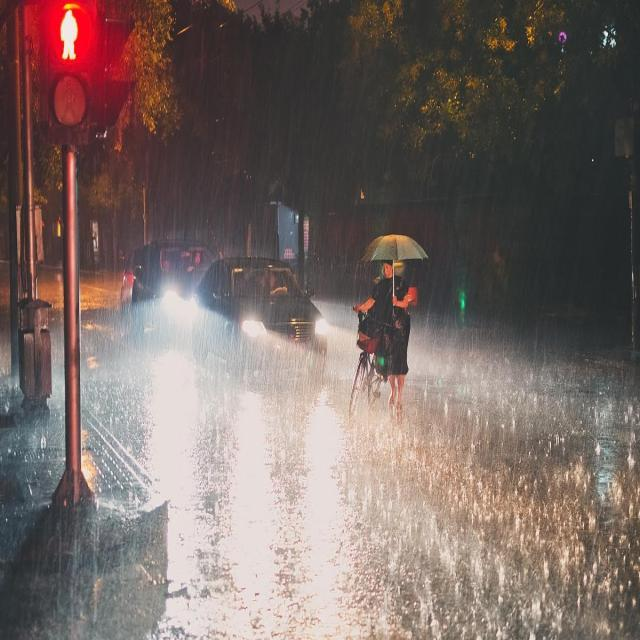car: (188, 254, 328, 377), (130, 240, 226, 341)
